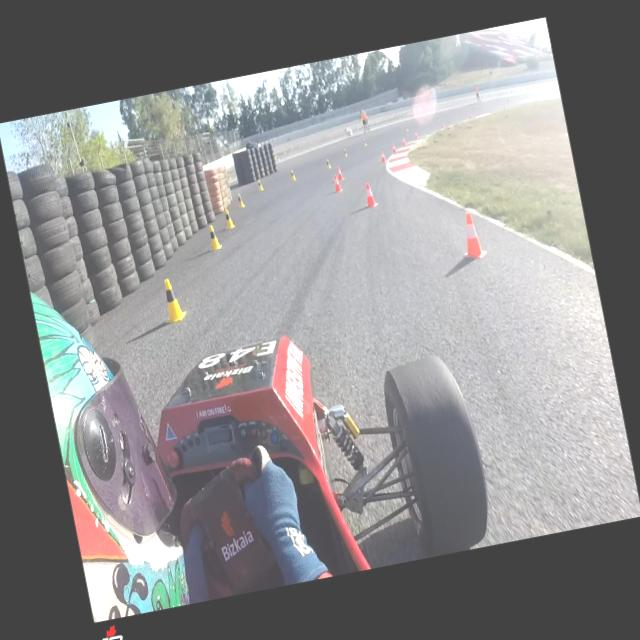orange_cone: (456, 210, 488, 262), (362, 181, 379, 208), (332, 174, 342, 192), (336, 166, 344, 180), (380, 150, 386, 162), (391, 143, 397, 154), (402, 137, 407, 145), (414, 132, 418, 138), (442, 123, 444, 128)
yellow_cone: (158, 276, 188, 323), (206, 223, 222, 250), (222, 208, 235, 229), (237, 192, 246, 208), (257, 178, 264, 192), (290, 168, 296, 182), (326, 158, 332, 169), (343, 148, 348, 156), (363, 138, 368, 146), (228, 172, 232, 181), (436, 114, 441, 120), (405, 125, 409, 132), (276, 155, 280, 161)
